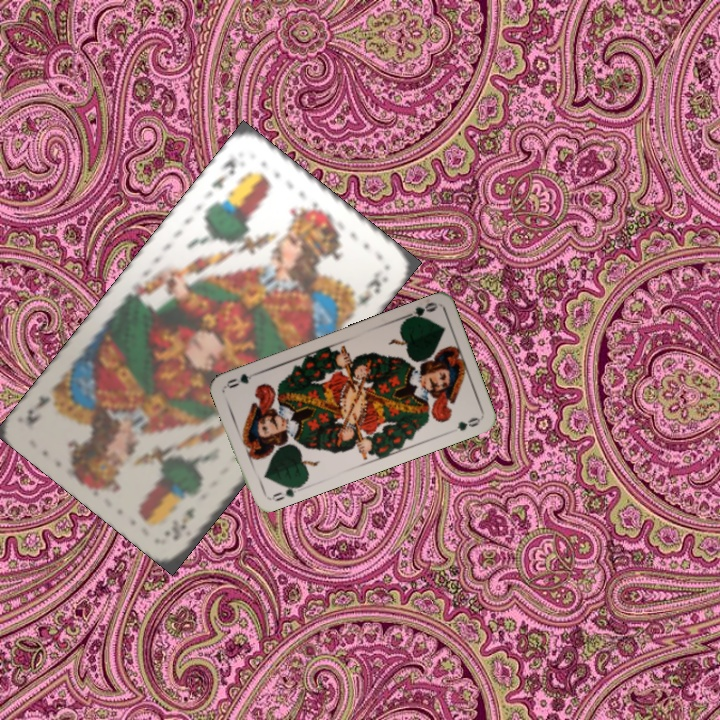EK: (206, 154, 239, 192), (168, 503, 198, 544)
GO: (399, 298, 439, 324), (264, 481, 304, 504)
